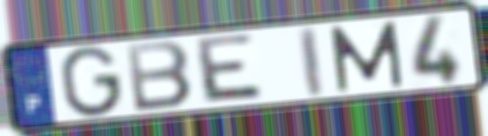4: (407, 12, 466, 88)
B: (123, 38, 196, 114)
E: (196, 32, 268, 106)
G: (58, 44, 124, 120)
I: (296, 24, 327, 99)
M: (326, 19, 407, 95)
